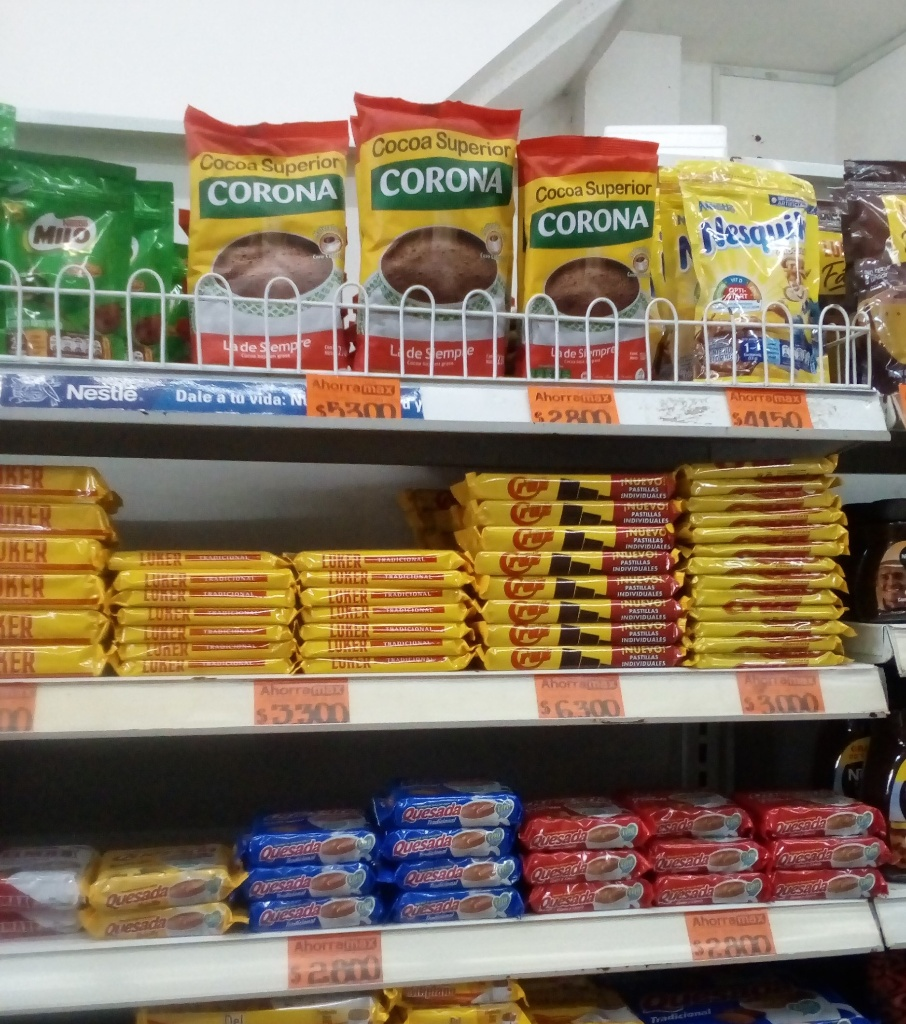COL0170303DYP20000: (681, 159, 824, 384)
